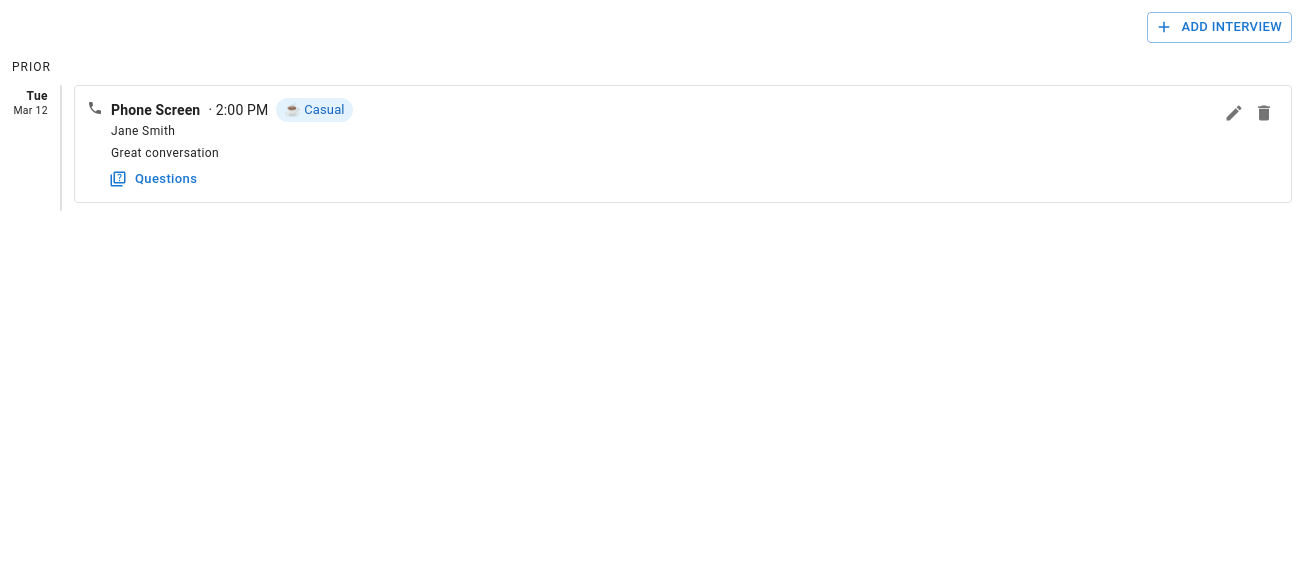
Scenario: interviewsTab › edit Interview › shows the edit form when Edit interview is clicked
Click the button named "Edit interview" at (1234, 113), box [1219,98,1249,128]
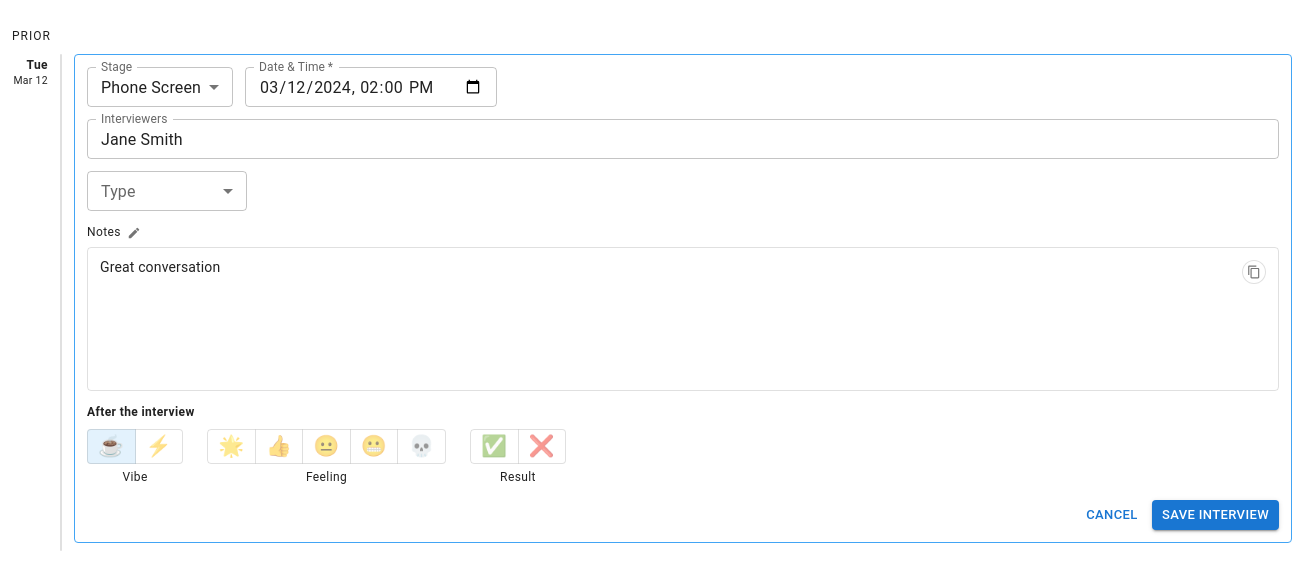
expect the button "Save Interview" is shown: met, box [1152,500,1279,530]
